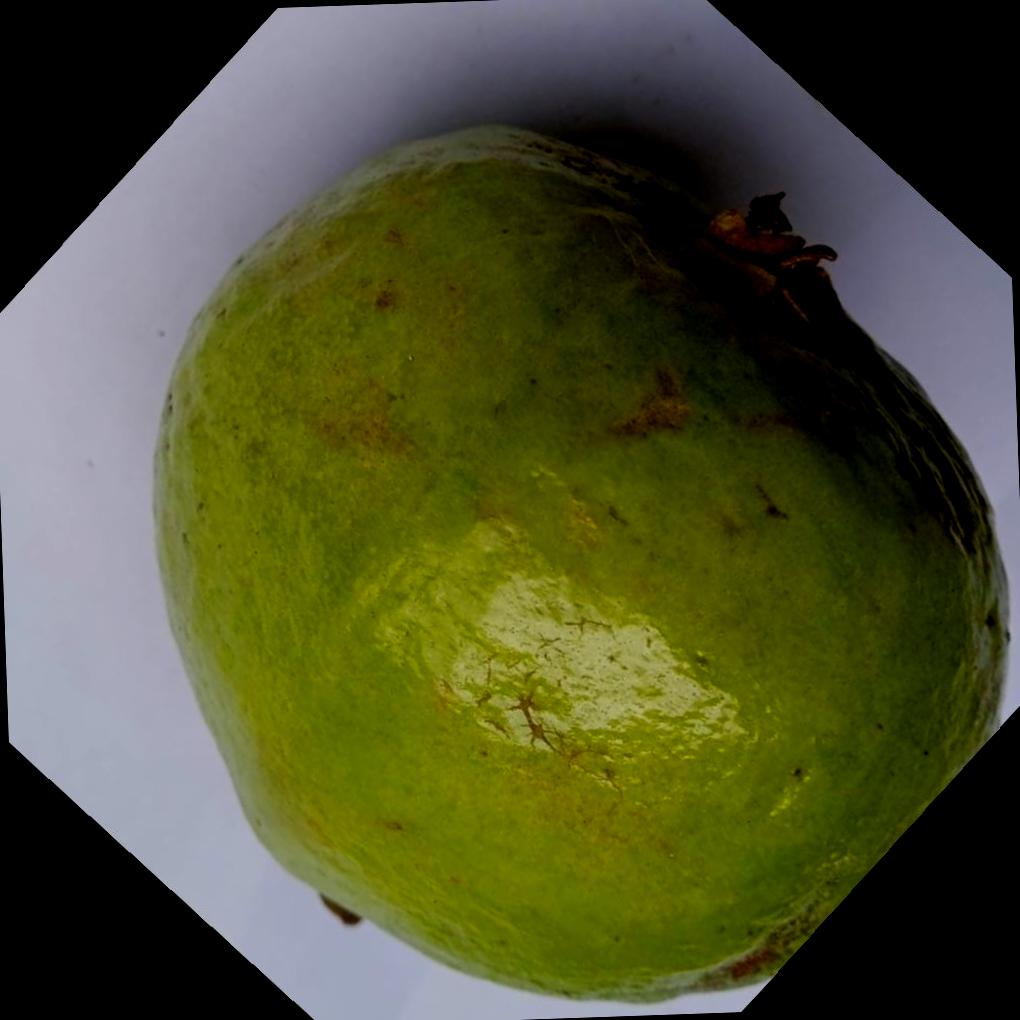FreshGuava: (147, 123, 1007, 1004)
